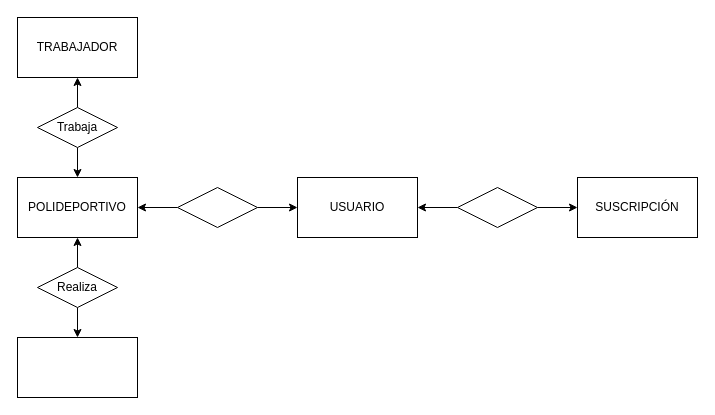
This 715x415 diagram has some shape labels left out. The box of each missing label's shape, as (x1, y1, x2, y2) in pixels:
ACTIVIDAD: (16, 336, 138, 398)
Asiste: (176, 186, 258, 228)
Contrata: (456, 186, 538, 228)
